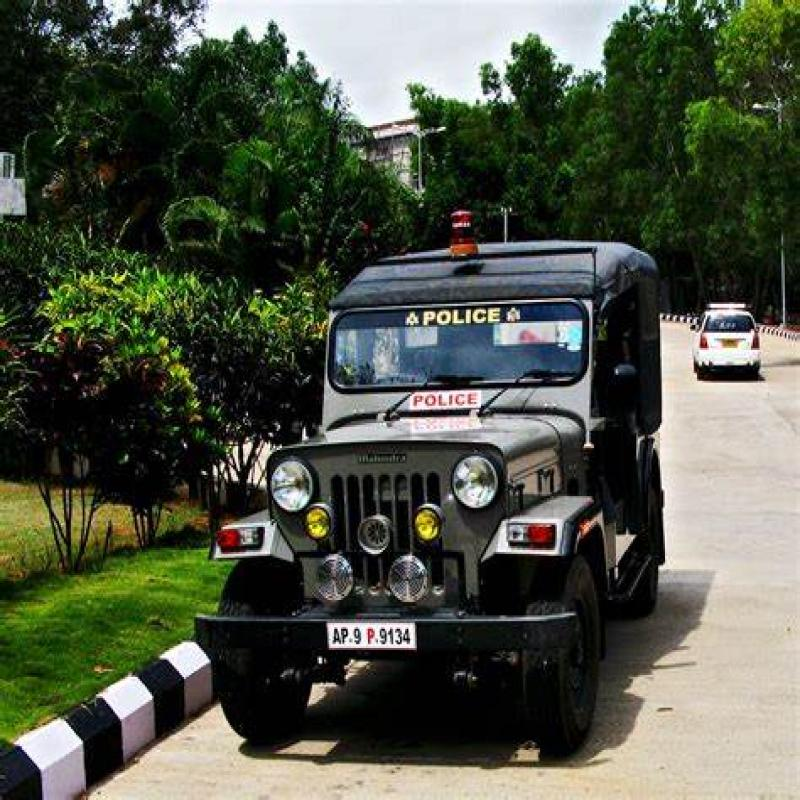AmbulanceSiren: (439, 200, 487, 271)
